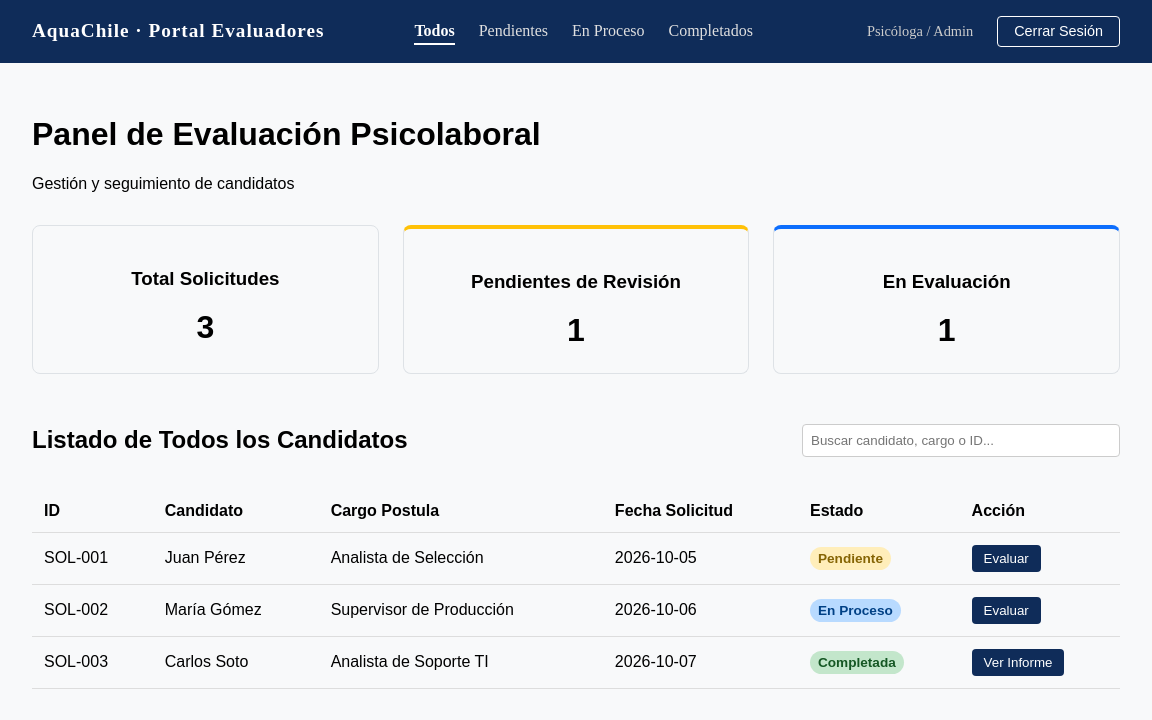
Test case: App (navegación) › «Cerrar Sesión» vuelve a la portada
What coordinates should you click on to do the following:
click the button "Cerrar Sesión"
I would click on:
 (1059, 31)
Its box is [997,16,1120,47].
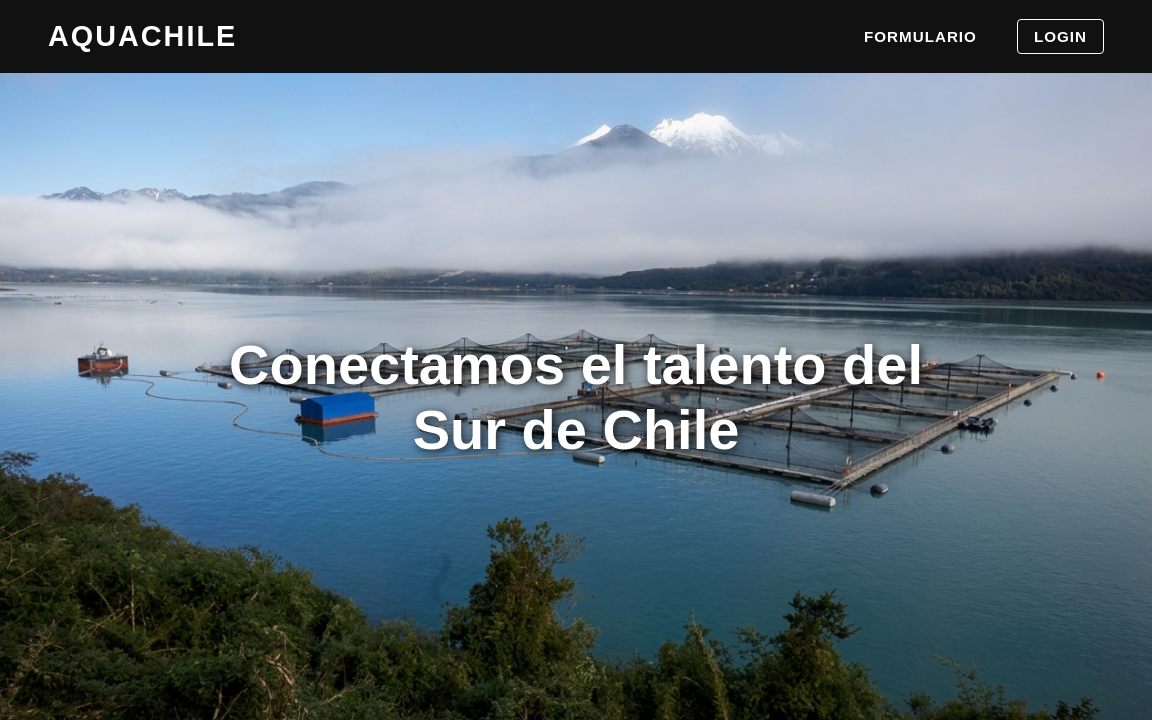
Result: the heading "Conectamos el talento del Sur de Chile" is shown at [176,332,976,462]
